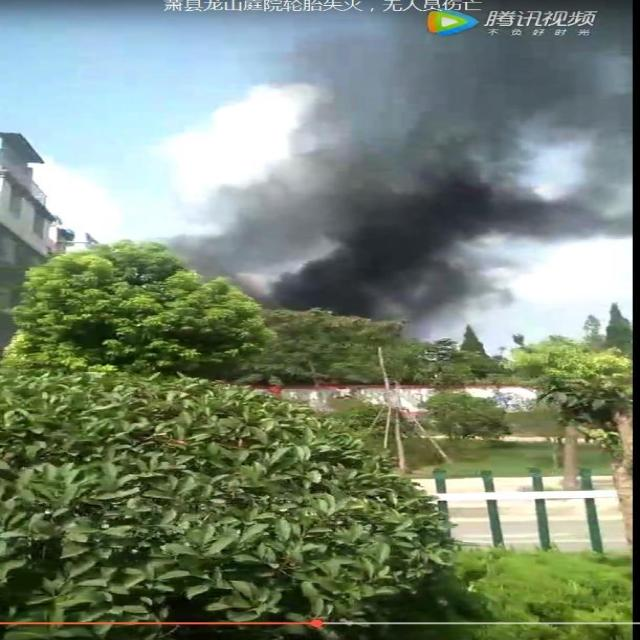smoke: (190, 0, 640, 306)
